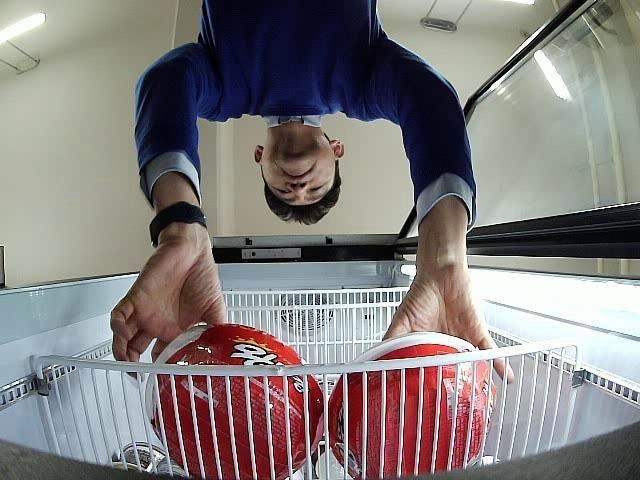10_wangTtukkeong: (146, 324, 325, 480), (328, 332, 496, 480)
